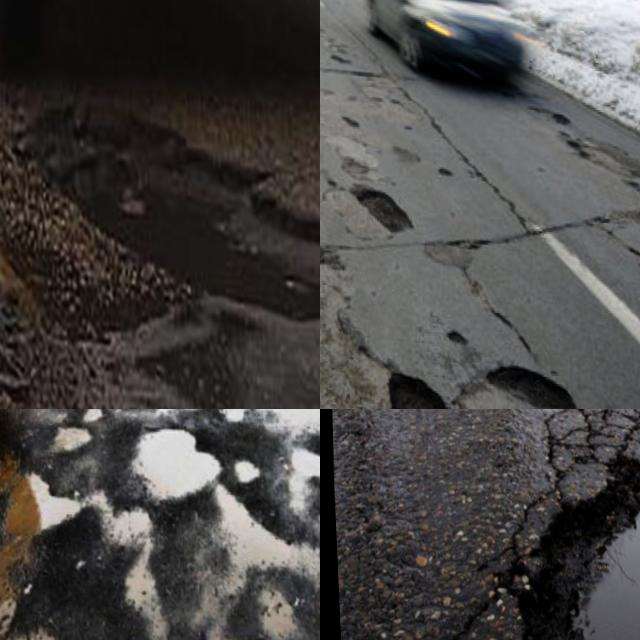Potholes: (11, 106, 320, 409), (0, 35, 123, 338), (484, 409, 640, 640), (170, 411, 320, 636), (33, 496, 212, 640), (0, 409, 94, 614), (101, 409, 267, 510), (461, 335, 594, 409), (347, 346, 479, 409), (289, 446, 320, 586), (113, 627, 308, 640)
